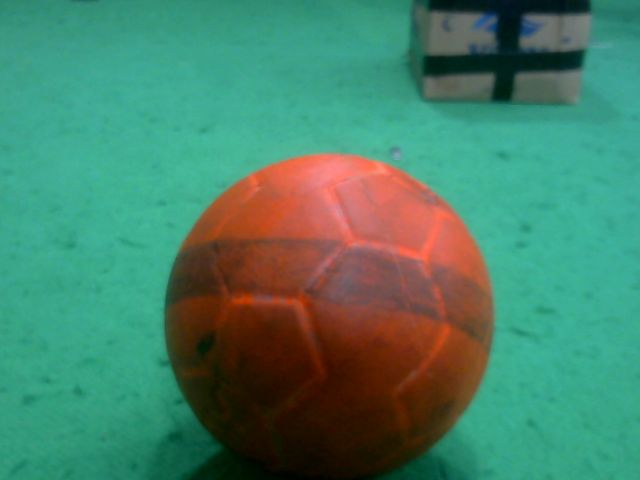ball: (149, 147, 500, 480)
